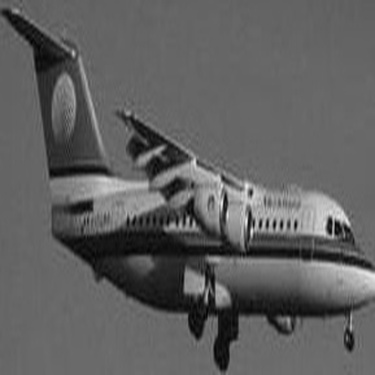airplane: (5, 6, 368, 372)
